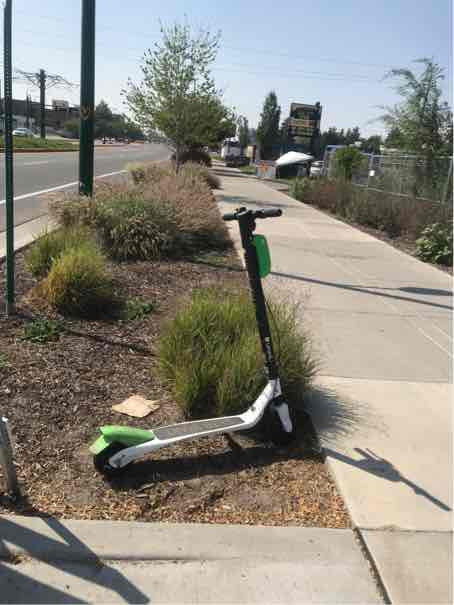scooter: (99, 185, 311, 479)
